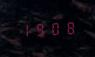eight: (60, 19, 73, 35)
nine: (32, 20, 45, 37)
one: (18, 21, 31, 37)
zero: (46, 20, 59, 36)
